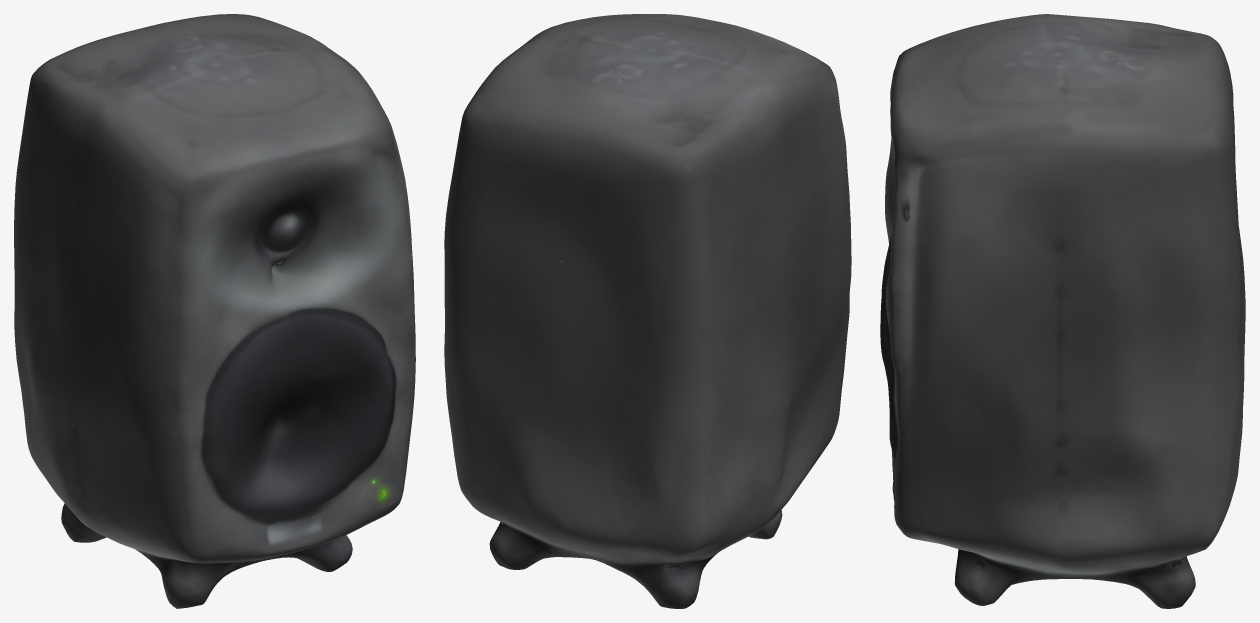
File: model-genelec.glb
3 renders of one model, left to right at view 1: azimuth 30°, elevation 25°; view 2: azimuth 150°, elevation 25°; view 3: azimuth 270°, elevation 25°, orthographic. The views are drawn at different scales.
Bounding box in the file's own units: 0.755 × 1.2 × 0.7786.
Materials: 1 (1 with a texture image).
